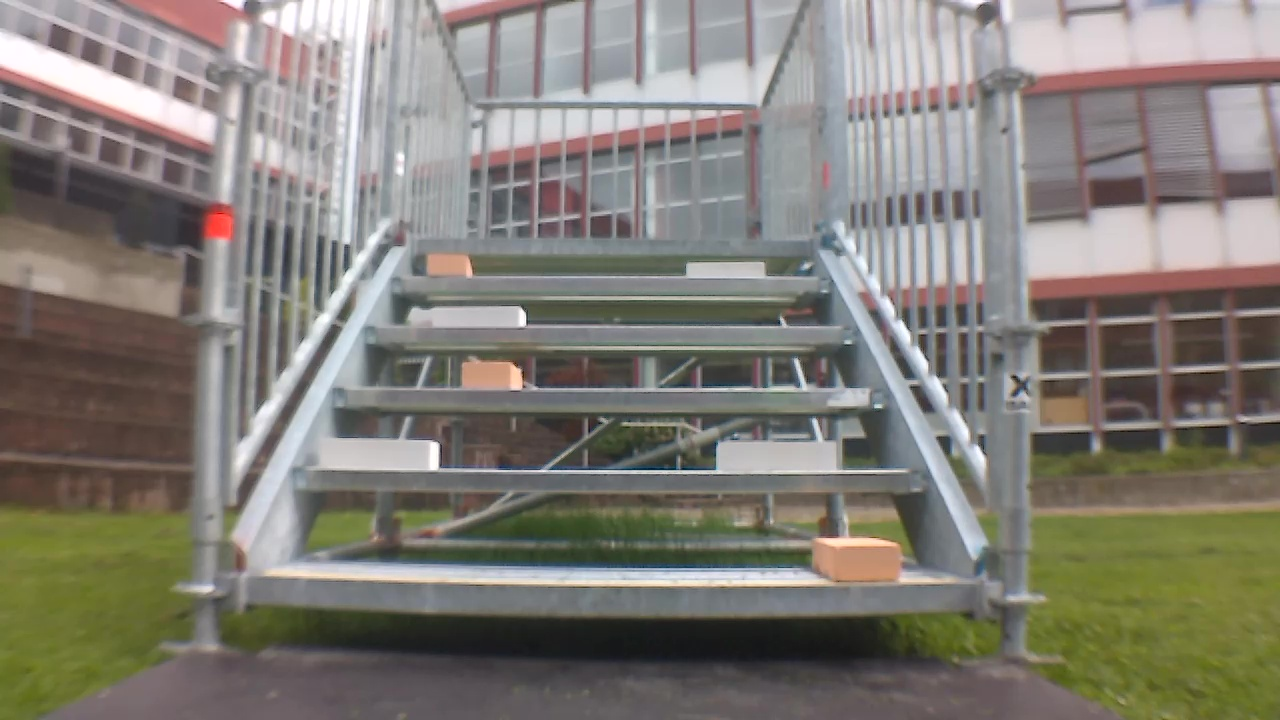brick: (812, 538, 900, 580), (320, 438, 438, 469), (717, 442, 836, 471), (432, 306, 526, 327), (463, 362, 519, 389), (686, 262, 763, 277), (426, 252, 472, 275)
edge: (247, 576, 975, 617), (293, 469, 925, 492), (331, 388, 888, 410), (367, 326, 859, 343), (393, 275, 832, 294), (412, 238, 815, 255)
stairs: (181, 3, 1047, 658)
steps: (246, 232, 982, 632)
